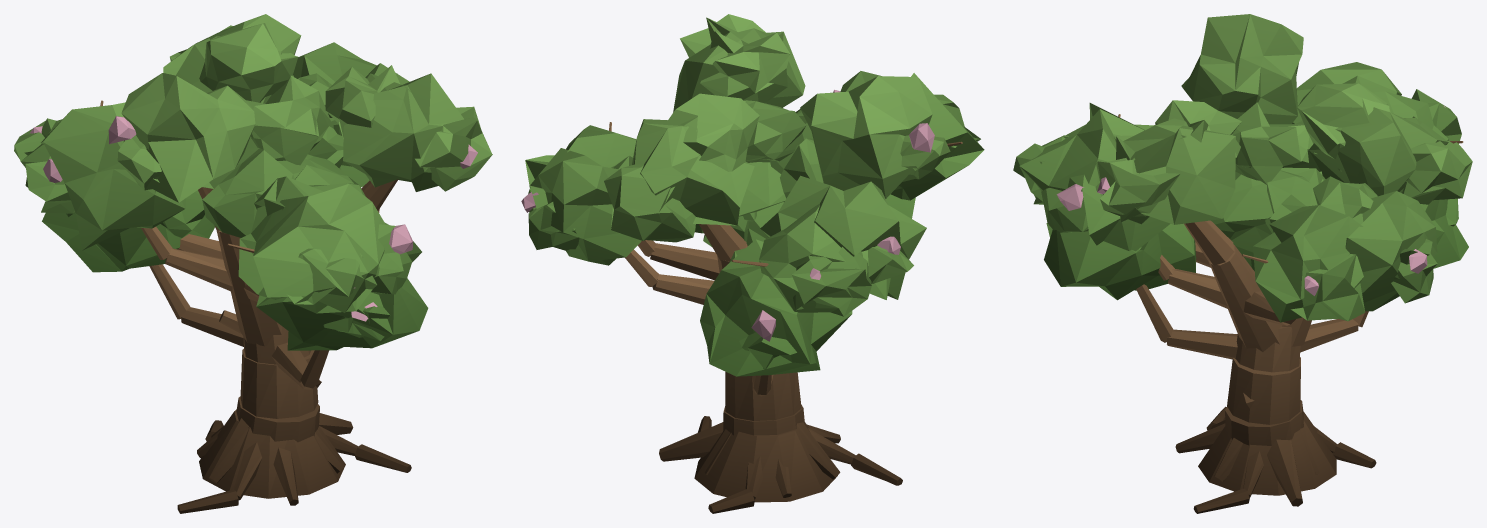
Rendered from park_tree_01.glb.
3 views of the same model, side by side, from view 1: azimuth 30°, elevation 25°; view 2: azimuth 150°, elevation 25°; view 3: azimuth 270°, elevation 25° (orthographic). The views are drawn at different scales.
Visible parts, largest first — view 1: park_tree_01; view 2: park_tree_01; view 3: park_tree_01.
Part boxes in pixels (x1=…): park_tree_01: x1=14, y1=14, x2=492, y2=513; park_tree_01: x1=521, y1=14, x2=984, y2=513; park_tree_01: x1=1013, y1=14, x2=1472, y2=513.
Bounding box in the file's own units: 4.13 × 4.16 × 4.29.
